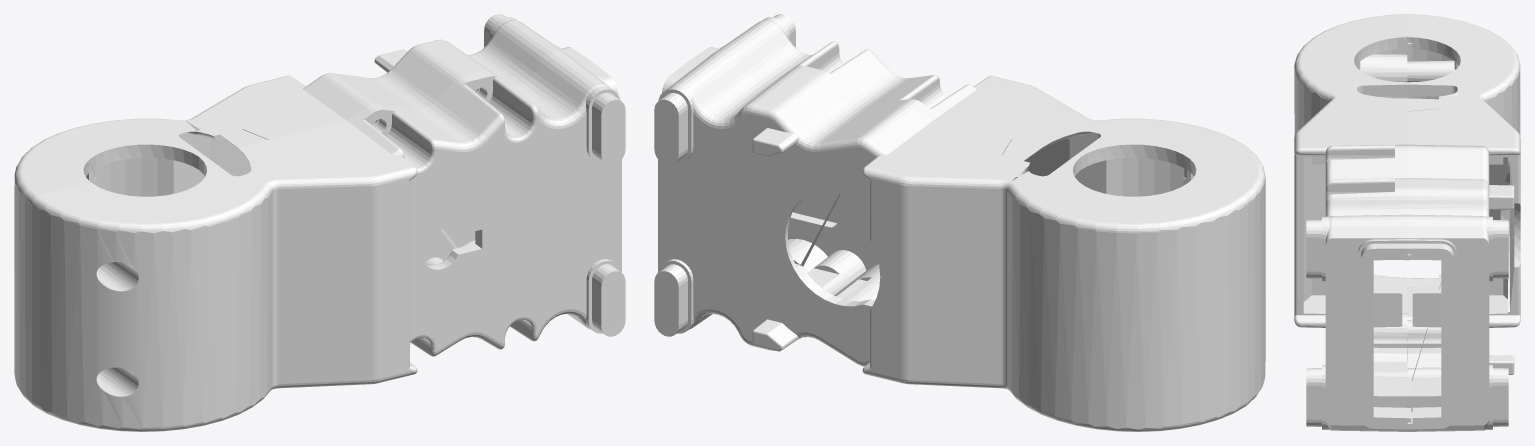
File: scara_id2.dae
3 renders of one model, left to right at view 1: azimuth 30°, elevation 25°; view 2: azimuth 150°, elevation 25°; view 3: azimuth 270°, elevation 25°, orthographic. The views are drawn at different scales.
Parts seen in each view (by area): view 1: ID2; view 2: ID2; view 3: ID2.
Part boxes in pixels (x1,y1,x2,y2): ID2: [14, 14, 625, 431]; ID2: [654, 14, 1265, 431]; ID2: [1294, 14, 1520, 431].
Size of the model in its own units: 0.0889 by 0.036 by 0.0376.
Materials: 1 (1 with a texture image).
